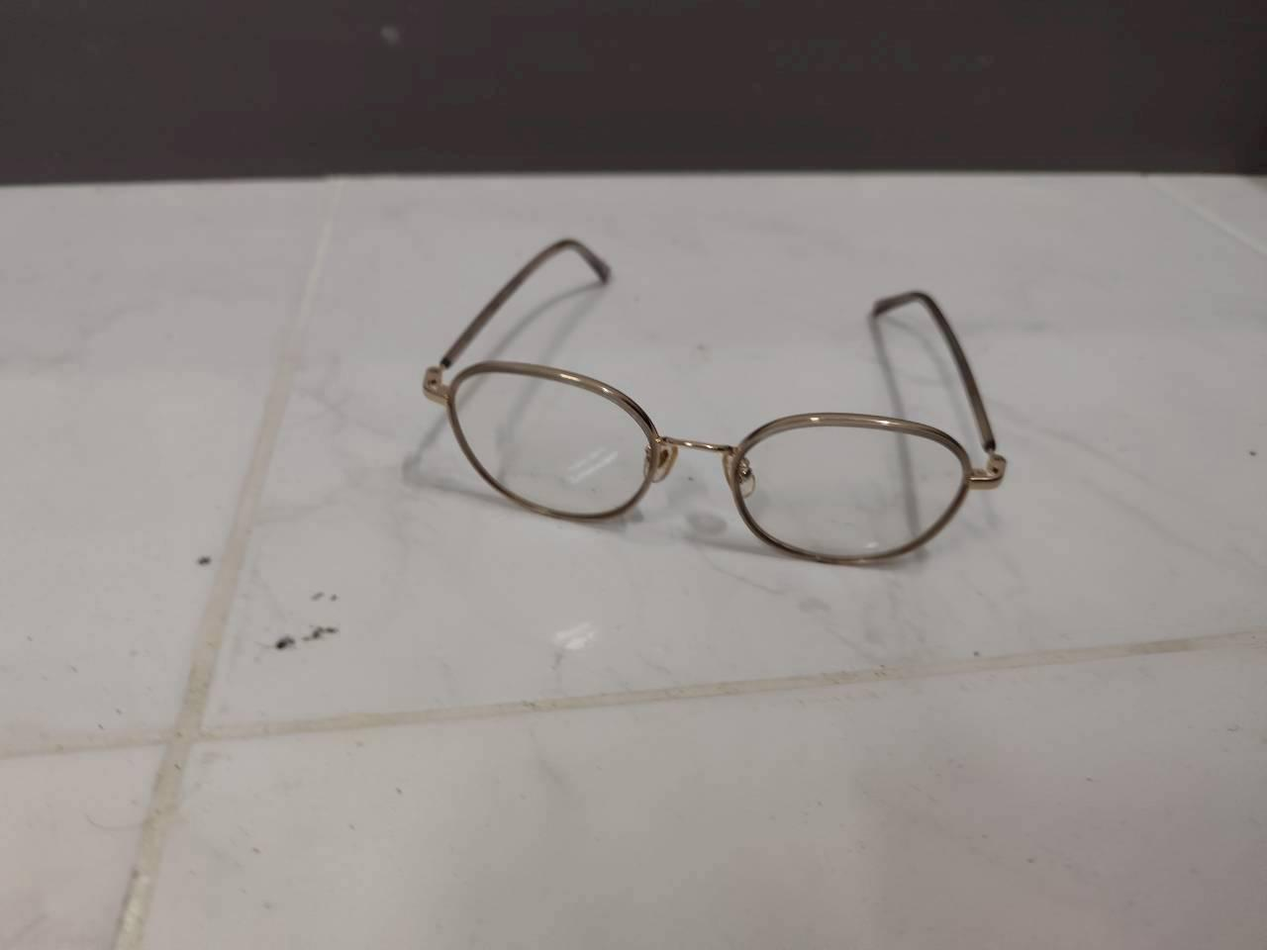glasses: (402, 223, 1021, 580)
